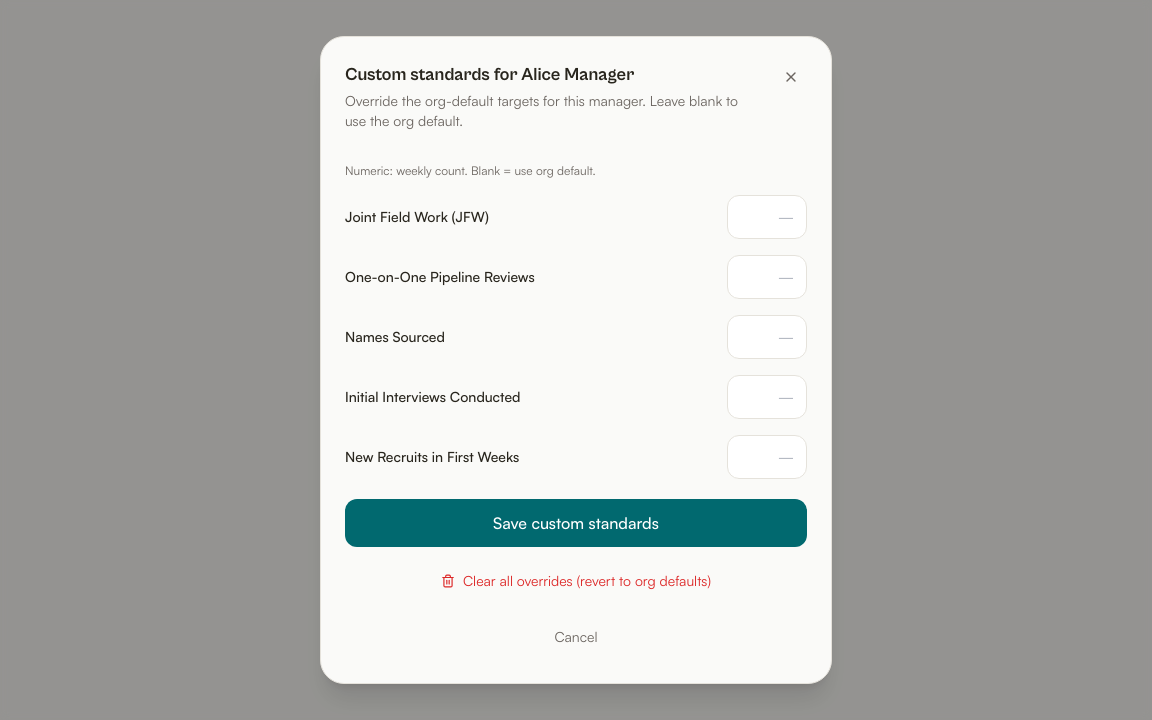
Test: ManagerOverrideModal — save › shows generic error message for unknown errors
The image size is (1152, 720).
Click the button "Save custom standards" at x=576, y=523, box [345,499,807,547]
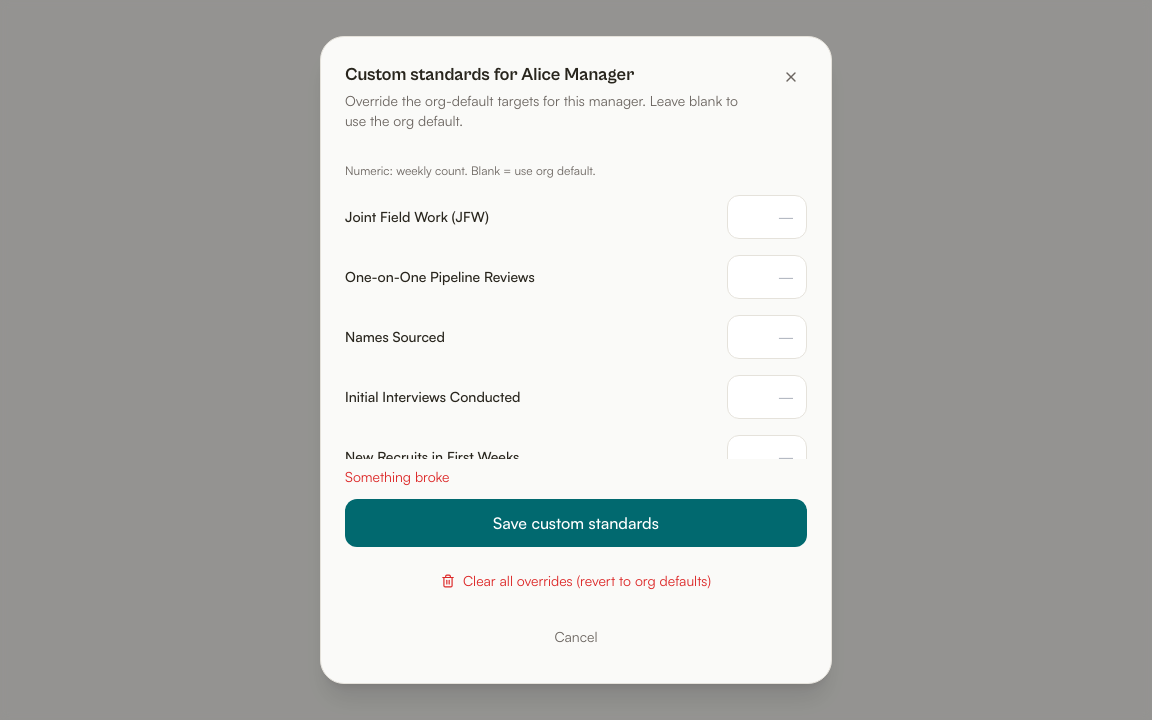
Now the message reads "Something broke", box [345,468,450,485]
